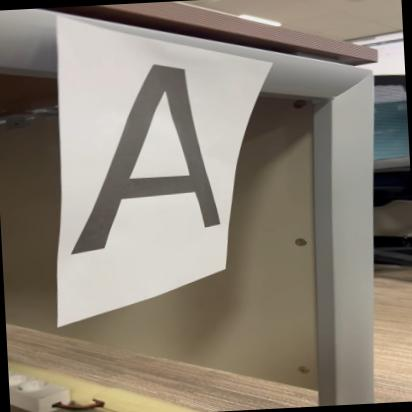seat: (58, 58, 242, 260)
